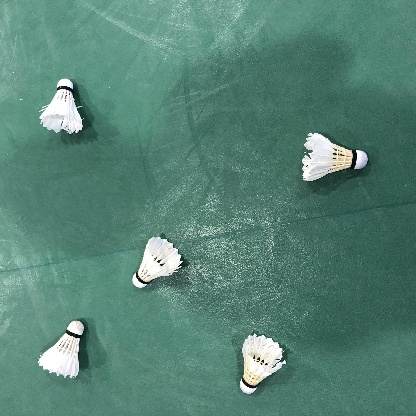ball_single: (301, 133, 368, 181), (240, 333, 286, 394), (38, 321, 84, 379), (132, 237, 183, 288), (39, 79, 83, 134)
